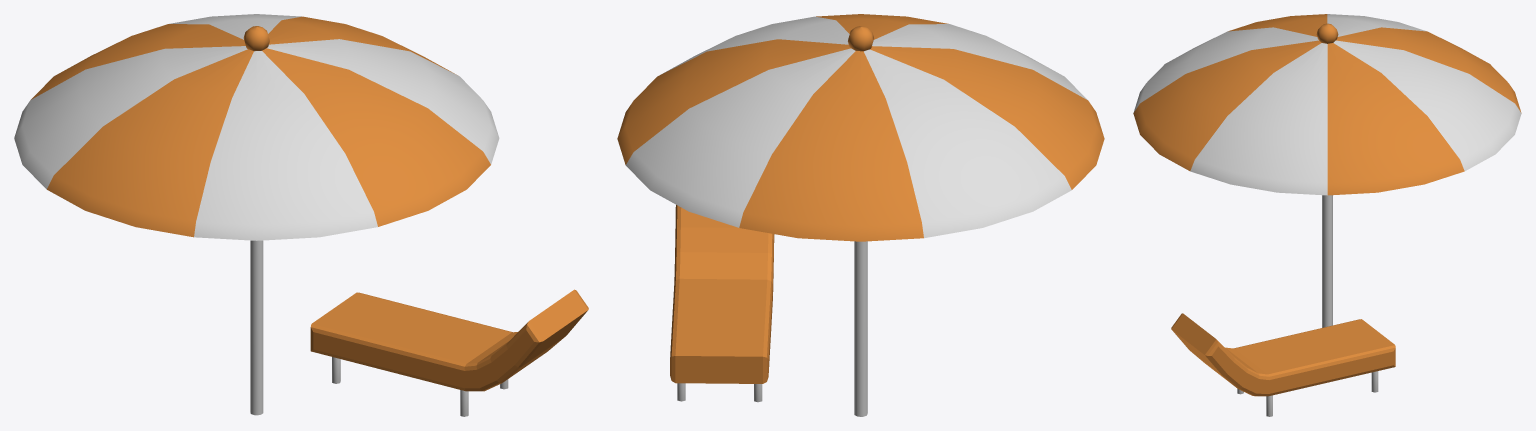
Rendered from guarda_sol_3.glb.
3 views of the same model, side by side, from view 1: azimuth 30°, elevation 25°; view 2: azimuth 150°, elevation 25°; view 3: azimuth 270°, elevation 25° (orthographic). The views are drawn at different scales.
Visible parts, largest first — view 1: guarda_sol_3_corpo; view 2: guarda_sol_3_corpo; view 3: guarda_sol_3_corpo.
Part boxes in pixels (bbox=[...]): guarda_sol_3_corpo: bbox=[14, 14, 588, 416]; guarda_sol_3_corpo: bbox=[617, 14, 1104, 416]; guarda_sol_3_corpo: bbox=[1133, 14, 1521, 416].
Bounding box in the file's own units: 3.96 × 3.12 × 3.56.
